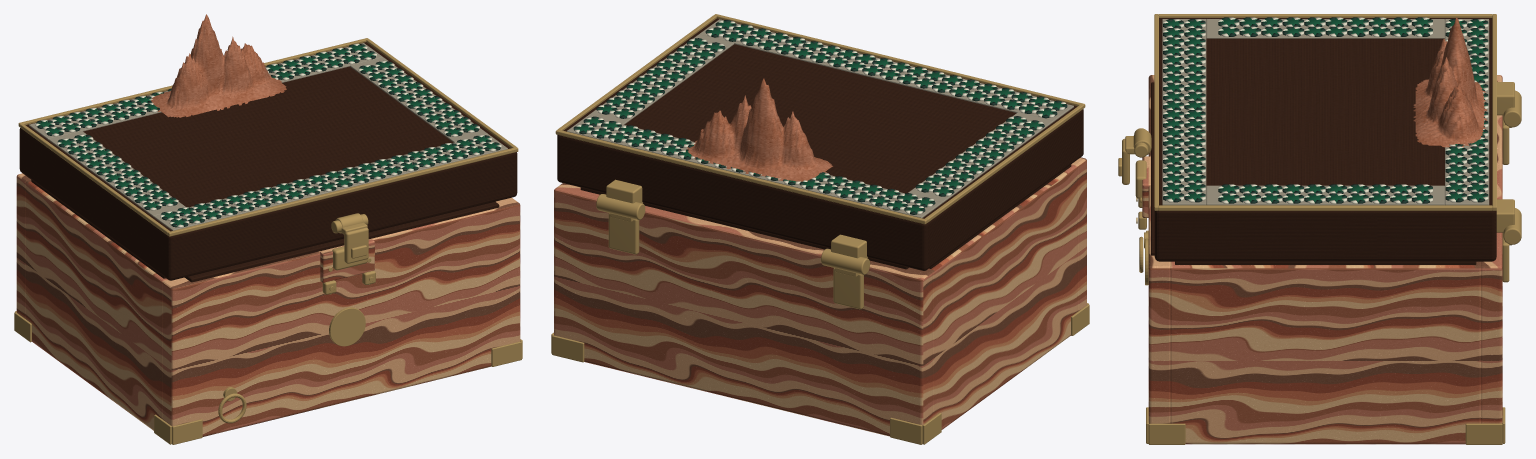
The model's file is morocco.glb.
The picture shows the model from 3 angles, left to right: view 1: azimuth 30°, elevation 25°; view 2: azimuth 150°, elevation 25°; view 3: azimuth 270°, elevation 25°; orthographic projection. The views are drawn at different scales.
Visible parts, largest first — view 1: Rose stone / front, Lid / polished slab, Rose stone / side, Ceramic tessera / deep green glaze, Atlas ridge / rear centre eroded massif, Ceramic tessera / ivory glaze, Ceramic tessera / near black green accents, Rim / long, Brass / crown long, Tile bed / long, Rose stone / rear, Tile bed / long.001 (+10 smaller); view 2: Rose stone / rear, Lid / polished slab, Rose stone / side, Ceramic tessera / deep green glaze, Ceramic tessera / near black green accents, Atlas ridge / rear centre eroded massif, Ceramic tessera / ivory glaze, Brass / crown long.001, Tile bed / long, Tile bed / long.001, Brass / crown long, Rose stone / front (+13 smaller); view 3: Rose stone / side.001, Lid / polished slab, Ceramic tessera / deep green glaze, Ceramic tessera / ivory glaze, Ceramic tessera / near black green accents, Atlas ridge / rear centre eroded massif, Rose stone / rear, Rose stone / front, Brass / crown side.001, Tile bed / long, Tile bed / return.001, Tile bed / return (+13 smaller).
Part boxes in pixels (x1=…): Rose stone / front: x1=162, y1=197, x2=520, y2=436; Lid / polished slab: x1=19, y1=42, x2=517, y2=280; Rose stone / side: x1=25, y1=180, x2=167, y2=430; Ceramic tessera / deep green glaze: x1=37, y1=44, x2=499, y2=226; Atlas ridge / rear centre eroded massif: x1=151, y1=14, x2=286, y2=117; Ceramic tessera / ivory glaze: x1=35, y1=43, x2=501, y2=227; Ceramic tessera / near black green accents: x1=36, y1=44, x2=500, y2=227; Rim / long: x1=185, y1=201, x2=499, y2=282; Brass / crown long: x1=167, y1=147, x2=518, y2=236; Tile bed / long: x1=153, y1=134, x2=507, y2=230; Rose stone / rear: x1=16, y1=173, x2=30, y2=318; Tile bed / long.001: x1=29, y1=43, x2=382, y2=139; Rose stone / rear: x1=554, y1=183, x2=932, y2=436; Lid / polished slab: x1=557, y1=18, x2=1083, y2=270; Rose stone / side: x1=926, y1=164, x2=1077, y2=429; Ceramic tessera / deep green glaze: x1=575, y1=21, x2=1065, y2=213; Ceramic tessera / near black green accents: x1=573, y1=20, x2=1067, y2=214; Atlas ridge / rear centre eroded massif: x1=685, y1=78, x2=832, y2=181; Ceramic tessera / ivory glaze: x1=574, y1=20, x2=1065, y2=214; Brass / crown long.001: x1=555, y1=129, x2=927, y2=224; Tile bed / long: x1=699, y1=19, x2=1073, y2=121; Tile bed / long.001: x1=567, y1=116, x2=941, y2=218; Brass / crown long: x1=714, y1=14, x2=1085, y2=108; Rose stone / front: x1=1071, y1=157, x2=1086, y2=311; Rose stone / side.001: x1=1170, y1=261, x2=1480, y2=444; Lid / polished slab: x1=1154, y1=18, x2=1496, y2=261; Ceramic tessera / deep green glaze: x1=1164, y1=18, x2=1487, y2=203; Ceramic tessera / ivory glaze: x1=1163, y1=17, x2=1488, y2=203; Ceramic tessera / near black green accents: x1=1163, y1=17, x2=1488, y2=203; Atlas ridge / rear centre eroded massif: x1=1413, y1=17, x2=1486, y2=147; Rose stone / rear: x1=1481, y1=75, x2=1502, y2=423; Rose stone / front: x1=1148, y1=75, x2=1170, y2=423; Brass / crown side.001: x1=1158, y1=205, x2=1492, y2=210; Tile bed / long: x1=1162, y1=19, x2=1206, y2=205; Tile bed / return.001: x1=1206, y1=185, x2=1444, y2=205; Tile bed / return: x1=1206, y1=19, x2=1444, y2=38.
Bounding box in the file's own units: 3.76 × 2.96 × 3.28.
8 materials, 3 textured.
